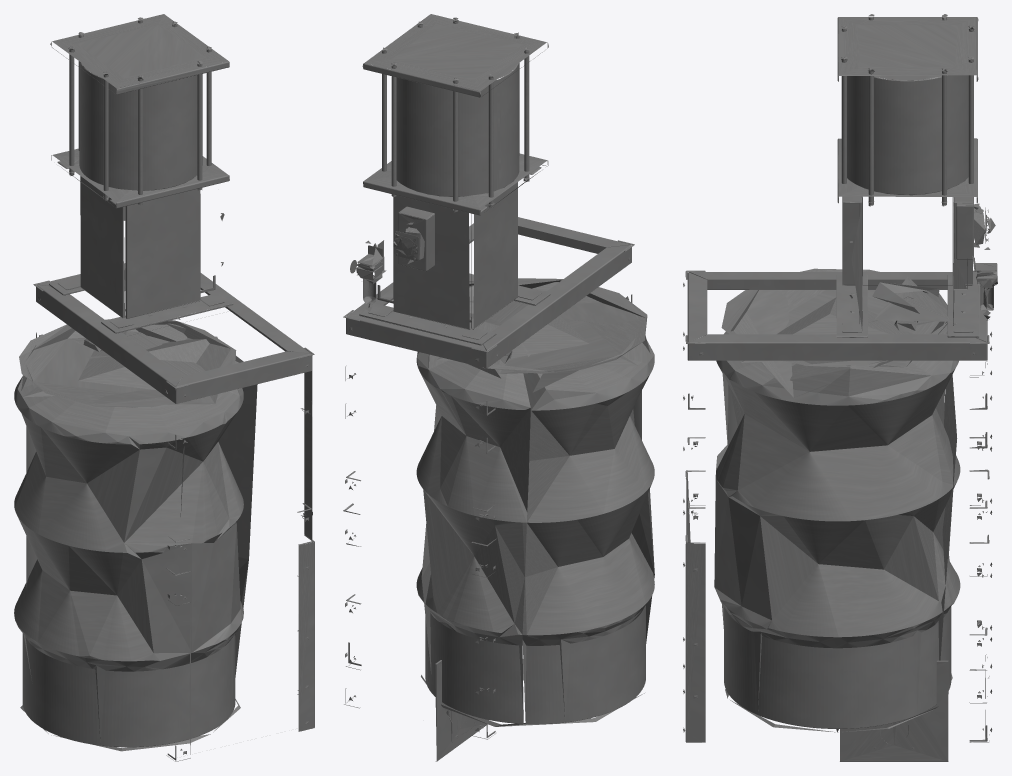
File: serviceTool_used_filter_crusher_a01.glb
The picture shows the model from 3 angles, left to right: view 1: azimuth 30°, elevation 25°; view 2: azimuth 150°, elevation 25°; view 3: azimuth 270°, elevation 25°; orthographic projection. The views are drawn at different scales.
Visible parts, largest first — view 1: geometry_0; view 2: geometry_0; view 3: geometry_0.
Boxes of the visible parts, <box> form: geometry_0: <box>14,14,314,761</box>; geometry_0: <box>343,14,654,761</box>; geometry_0: <box>683,14,997,761</box>.
Bounding box in the file's own units: 0.1436 × 0.42 × 0.1664.
Materials: 1 (1 with a texture image).
